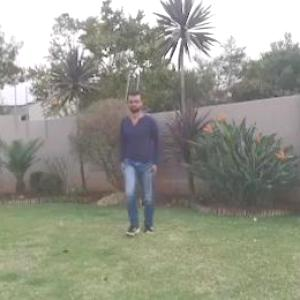follow: (121, 92, 160, 228)
